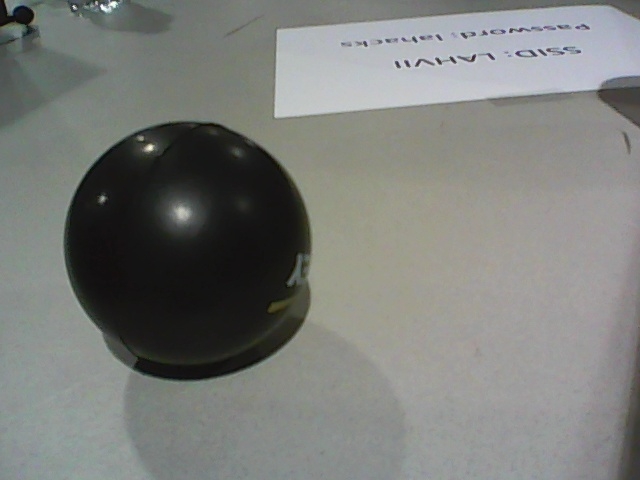ball: (63, 122, 312, 366)
